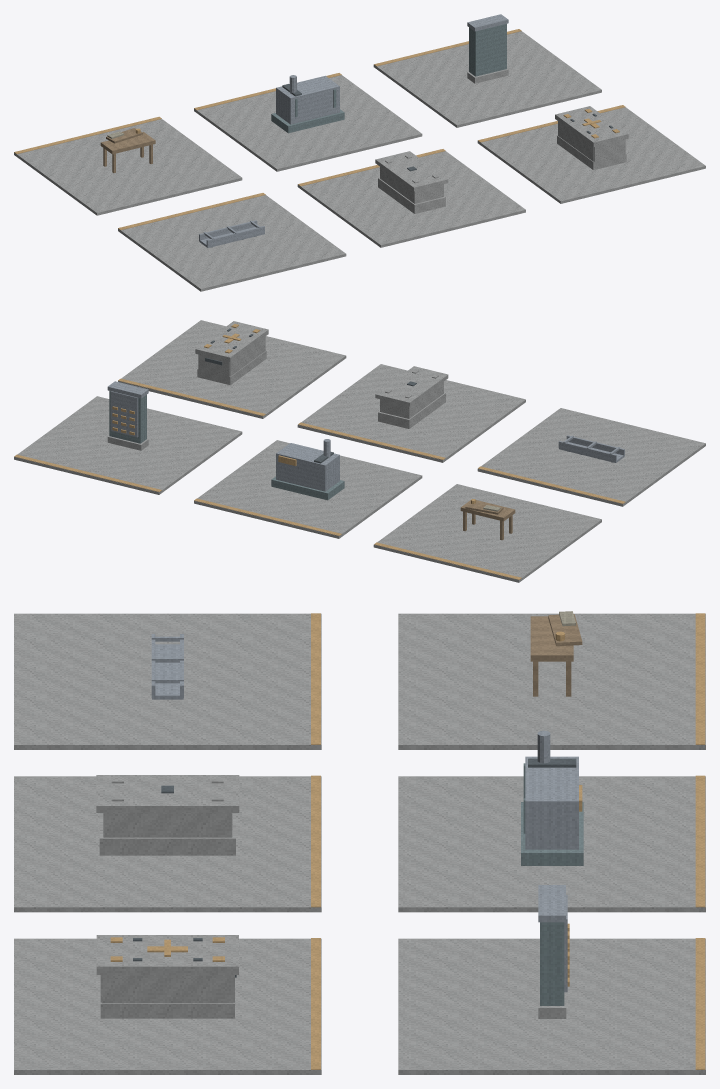
File: level_blockout_kit_wld_10_p03.glb
3 views of the same model, one above another, from view 1: azimuth 30°, elevation 25°; view 2: azimuth 150°, elevation 25°; view 3: azimuth 270°, elevation 25° (orthographic). The views are drawn at different scales.
Visible parts, largest first — view 1: level_blockout_kit_wld_10_p03; view 2: level_blockout_kit_wld_10_p03; view 3: level_blockout_kit_wld_10_p03.
Part boxes in pixels (box(x1,y1,x2,y2)): level_blockout_kit_wld_10_p03: box(14, 14, 705, 291); level_blockout_kit_wld_10_p03: box(14, 320, 705, 582); level_blockout_kit_wld_10_p03: box(14, 611, 705, 1074).
Bounding box in the file's own units: 19.65 × 2.19 × 12.6.
Materials: 7 (7 with a texture image).
